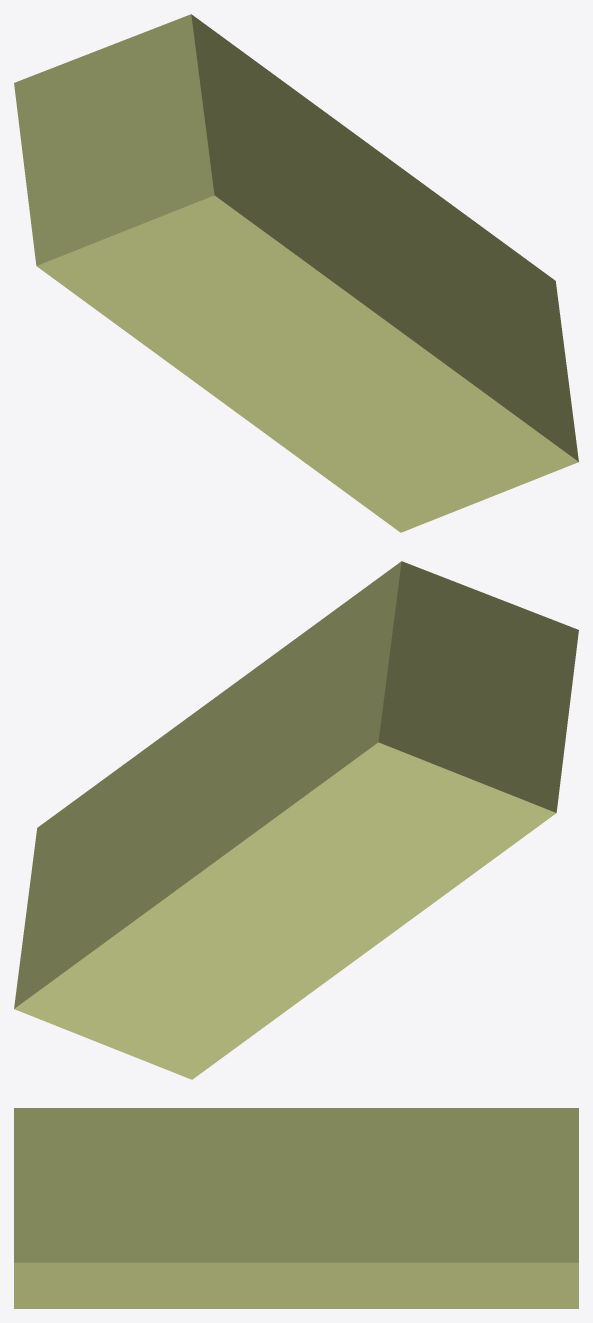
The picture shows the model from 3 angles, top to bottom: view 1: azimuth 30°, elevation 25°; view 2: azimuth 150°, elevation 25°; view 3: azimuth 270°, elevation 25°; orthographic projection. The views are drawn at different scales.
Visible parts, largest first — view 1: 0_1_3_2_1_1_2_0_0_1_0_1; view 2: 0_1_3_2_1_1_2_0_0_1_0_1; view 3: 0_1_3_2_1_1_2_0_0_1_0_1.
Part boxes in pixels (left/top/right/bottom): 0_1_3_2_1_1_2_0_0_1_0_1: left=14, top=14, right=578, bottom=532; 0_1_3_2_1_1_2_0_0_1_0_1: left=14, top=561, right=578, bottom=1079; 0_1_3_2_1_1_2_0_0_1_0_1: left=14, top=1108, right=578, bottom=1308.
Size of the model in its own units: 2.86 by 2.92 by 9.
